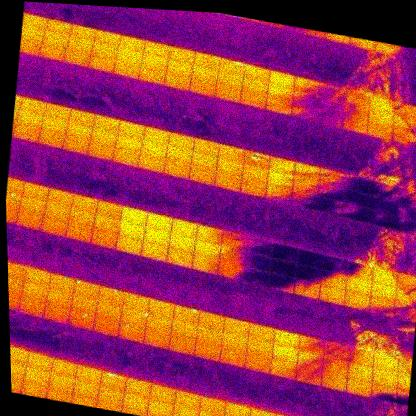Diode: (193, 51, 220, 68), (218, 58, 246, 74)
Hotspot: (67, 306, 97, 330), (118, 321, 145, 344), (97, 386, 125, 408), (119, 306, 148, 326), (172, 305, 201, 325), (72, 279, 101, 299), (97, 286, 125, 306), (98, 371, 126, 391), (122, 293, 151, 312), (242, 149, 271, 168), (49, 273, 75, 291), (249, 409, 276, 416)
Normal: (92, 311, 121, 339), (213, 167, 243, 192), (18, 294, 47, 318), (317, 282, 345, 306), (143, 325, 171, 349), (244, 349, 273, 372), (12, 121, 40, 144), (124, 376, 152, 399), (193, 338, 221, 361), (140, 241, 169, 263), (64, 221, 93, 243), (44, 301, 71, 324), (24, 265, 51, 288), (219, 344, 246, 367), (169, 332, 196, 355), (272, 328, 300, 350), (343, 289, 371, 311), (166, 247, 194, 269), (25, 350, 53, 372), (121, 392, 150, 413), (39, 216, 68, 237), (43, 201, 72, 222), (18, 196, 47, 217), (137, 152, 166, 173), (74, 364, 103, 385), (264, 95, 293, 116), (163, 69, 192, 90), (194, 324, 224, 344), (167, 232, 197, 252), (137, 65, 167, 85), (194, 239, 221, 261), (95, 199, 122, 221), (189, 164, 216, 186), (271, 343, 299, 364), (115, 235, 143, 256), (37, 127, 65, 148), (222, 315, 251, 335), (196, 310, 225, 330), (147, 298, 176, 318), (369, 280, 398, 300), (20, 182, 49, 202), (197, 396, 226, 416), (111, 146, 140, 166), (239, 90, 268, 110), (188, 77, 217, 97), (86, 53, 115, 73), (215, 70, 244, 90), (345, 376, 374, 396), (89, 229, 119, 248), (70, 193, 97, 214), (168, 130, 195, 151), (51, 357, 78, 378), (214, 84, 241, 105), (221, 329, 249, 349), (45, 286, 73, 306), (21, 281, 49, 301), (72, 380, 100, 400), (191, 255, 219, 275), (344, 275, 372, 295), (48, 373, 76, 393), (119, 206, 147, 226), (23, 366, 51, 386), (239, 176, 267, 196), (162, 159, 190, 179), (365, 120, 393, 140), (117, 221, 146, 240), (87, 140, 116, 159), (240, 162, 269, 181), (139, 139, 168, 158), (41, 30, 70, 49), (117, 34, 146, 53), (319, 371, 348, 390), (146, 312, 173, 332), (372, 353, 399, 373), (16, 211, 43, 231), (195, 224, 222, 244), (149, 384, 176, 404), (218, 143, 245, 163), (371, 368, 399, 387), (142, 227, 170, 246), (170, 219, 198, 238), (145, 212, 173, 231), (173, 391, 201, 410), (62, 133, 90, 152), (43, 102, 71, 121), (113, 60, 141, 79), (62, 49, 90, 68), (242, 63, 270, 82), (146, 398, 175, 416), (192, 139, 221, 157), (246, 336, 273, 355), (69, 208, 96, 227), (267, 169, 294, 188), (142, 125, 169, 144), (39, 42, 66, 61), (270, 359, 297, 378), (95, 299, 123, 317), (71, 294, 99, 312), (93, 216, 121, 234), (45, 188, 73, 206), (16, 108, 44, 126), (92, 115, 120, 133), (340, 116, 368, 134), (366, 108, 394, 126), (167, 46, 195, 64), (142, 41, 170, 59), (93, 30, 121, 48), (347, 362, 373, 381), (165, 146, 194, 163), (89, 128, 118, 145), (165, 58, 194, 75), (115, 48, 144, 65), (65, 37, 94, 54), (248, 322, 275, 340), (191, 151, 218, 169), (66, 122, 93, 140), (19, 96, 46, 114), (241, 77, 268, 95), (268, 70, 295, 88), (216, 157, 244, 174), (270, 156, 296, 174), (118, 121, 144, 139), (70, 25, 96, 43), (21, 381, 47, 399), (140, 53, 169, 69), (171, 320, 198, 337), (91, 42, 118, 59), (293, 161, 321, 177), (367, 96, 395, 112), (43, 20, 71, 36), (192, 64, 218, 81), (68, 110, 95, 126), (267, 83, 294, 99), (115, 135, 143, 150), (41, 117, 69, 132), (8, 261, 27, 281), (10, 346, 29, 366), (223, 403, 252, 416), (46, 389, 72, 403), (171, 406, 200, 416), (8, 276, 24, 294), (11, 360, 25, 380), (9, 289, 21, 310), (11, 376, 24, 394), (196, 411, 224, 416), (272, 412, 300, 416)
Shadow: (368, 294, 396, 318), (316, 180, 345, 203), (294, 261, 322, 284), (291, 188, 319, 211), (267, 272, 296, 294), (243, 250, 272, 272), (367, 209, 396, 230), (342, 186, 371, 207), (369, 180, 398, 201), (293, 278, 321, 299), (319, 269, 347, 290), (370, 266, 398, 287), (345, 260, 373, 281), (321, 356, 350, 376), (241, 266, 270, 286), (340, 201, 370, 220), (323, 340, 350, 361), (296, 349, 324, 369), (297, 335, 325, 355), (216, 260, 244, 280), (321, 255, 349, 275), (219, 230, 247, 250), (317, 166, 346, 185), (315, 96, 344, 115), (342, 89, 371, 108), (390, 125, 416, 146), (270, 257, 297, 277), (244, 236, 274, 254), (316, 196, 343, 216), (368, 196, 398, 214), (347, 348, 375, 367), (295, 249, 323, 268), (270, 242, 298, 261), (265, 183, 293, 202), (318, 82, 346, 101), (294, 365, 322, 384), (343, 174, 372, 192), (218, 246, 245, 265), (292, 174, 319, 193), (290, 102, 317, 121), (370, 383, 397, 402), (341, 103, 369, 121), (315, 110, 342, 128), (292, 88, 319, 106), (392, 216, 416, 236), (392, 112, 416, 131), (393, 202, 416, 221), (294, 75, 319, 92), (396, 185, 416, 206), (392, 100, 416, 117)
